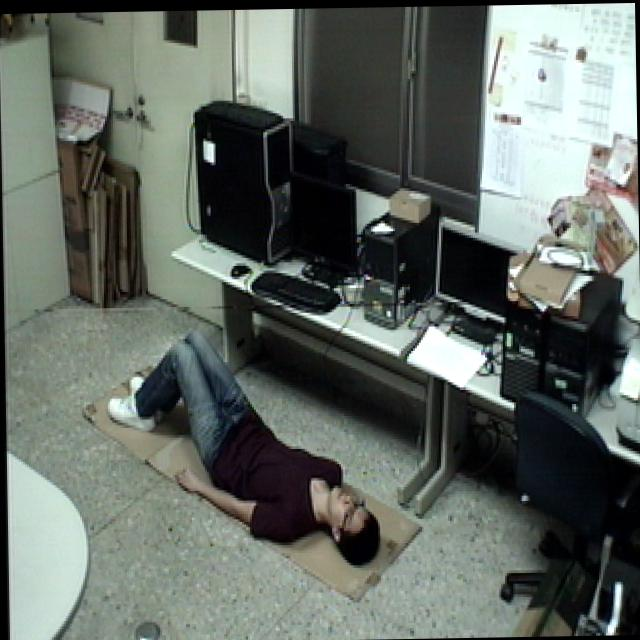lie: (103, 318, 385, 575)
